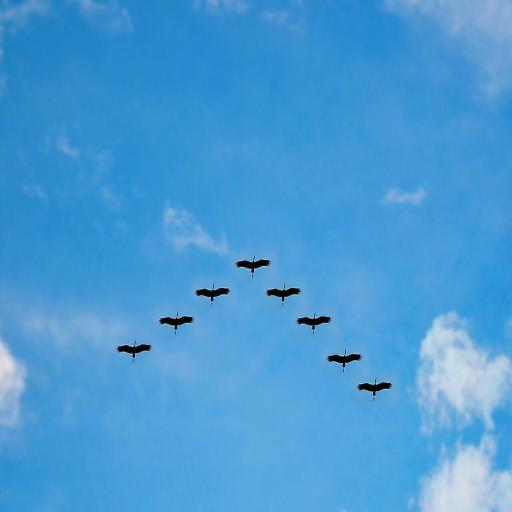birds: (116, 333, 158, 362), (356, 376, 398, 402), (234, 252, 271, 280), (262, 282, 307, 304), (295, 308, 331, 333), (195, 281, 231, 305), (328, 347, 363, 371), (157, 316, 196, 333)
